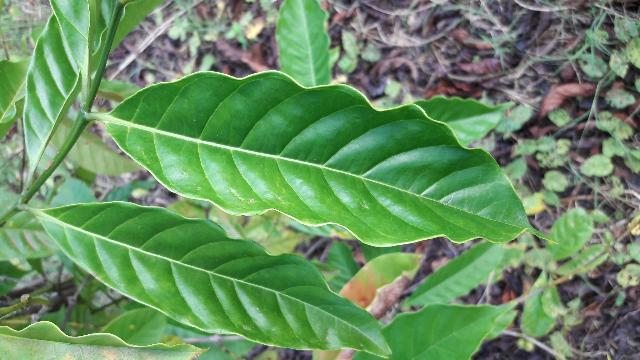healthy: (103, 71, 533, 247)
